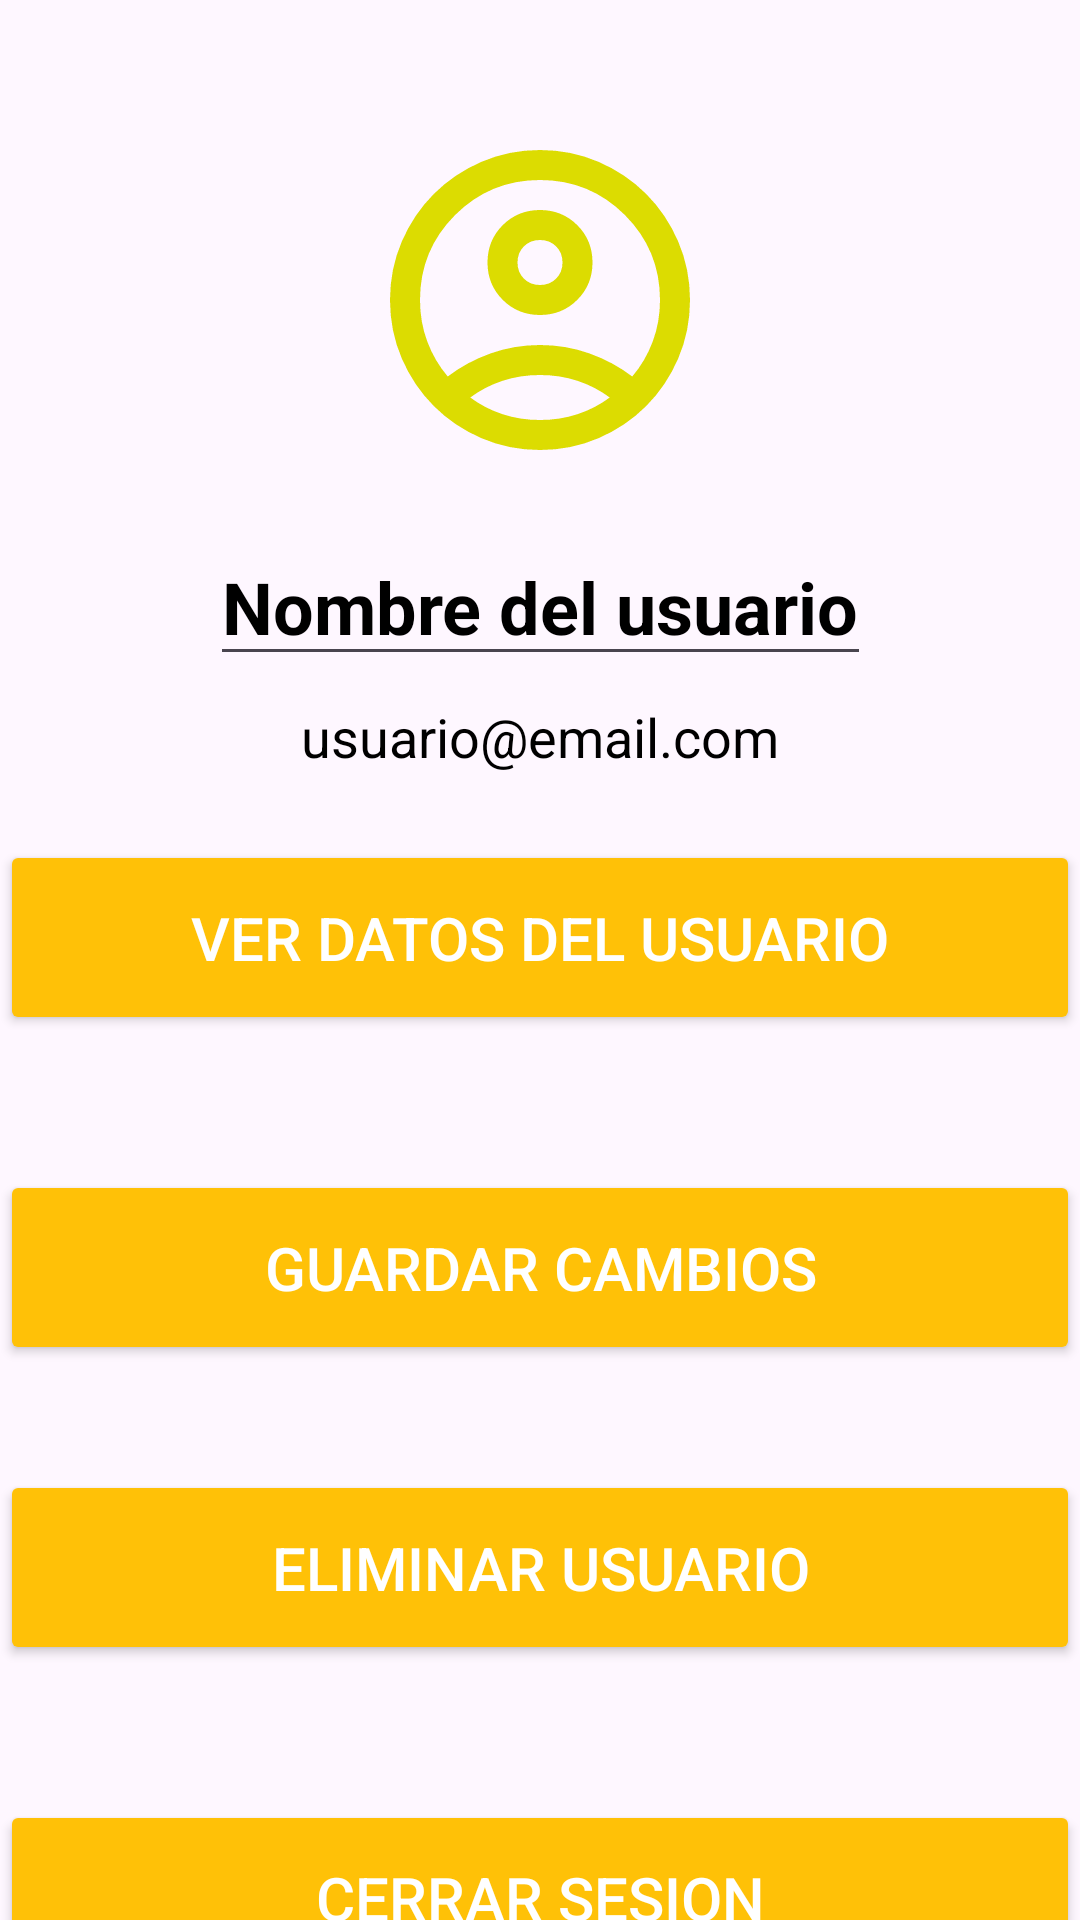

Screen size 1080*1920. Icon name, then its box in pixels as (x1, y1, x2, y2):
user: (390, 150, 690, 450)
